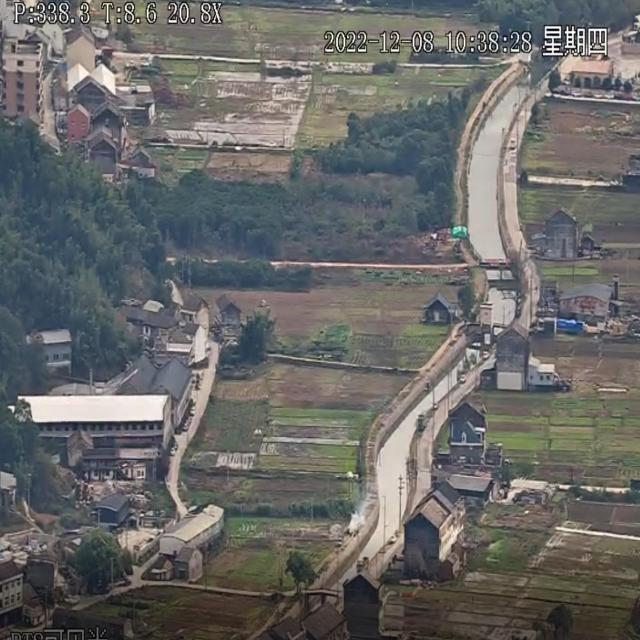Smoke: (348, 506, 364, 535)
